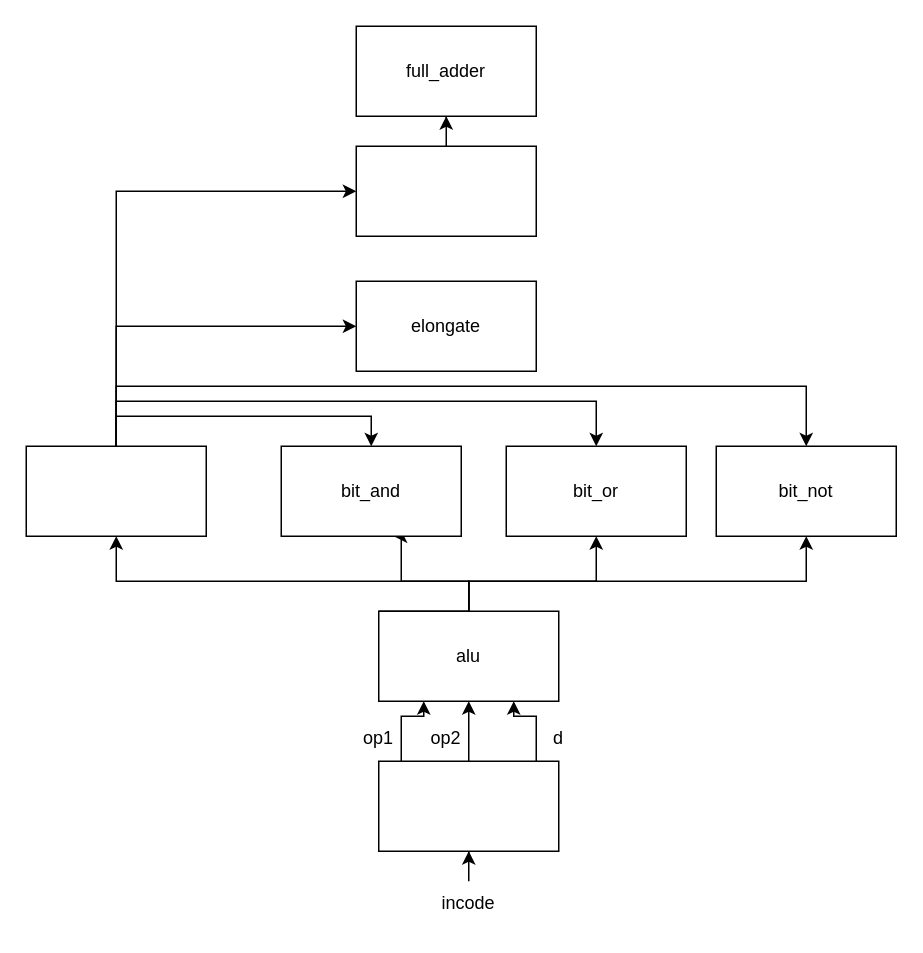
Image size: 923x953. Some labels were removed from this diagram. The shapes that lost their labels are listed below. From the top down, each one's box as (x1, y1, x2, y2) in pixels, then its label:
(355, 145, 536, 236): add
(25, 445, 206, 536): combadd
(377, 760, 559, 851): control_unit
